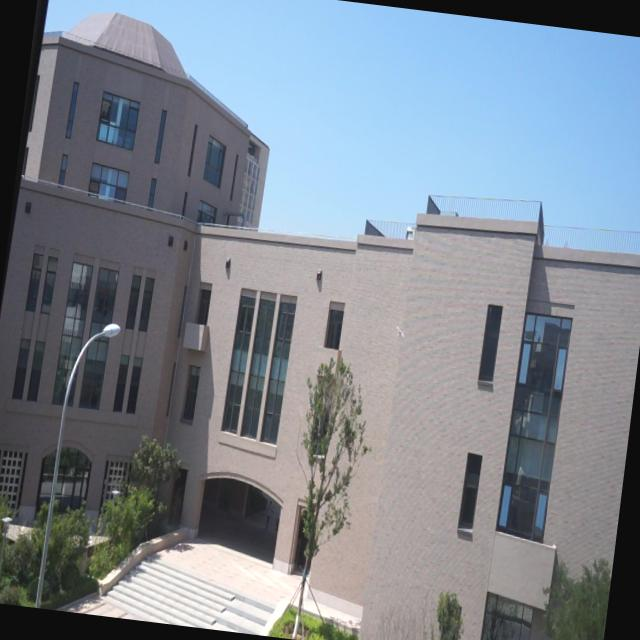drone: (394, 319, 406, 342)
